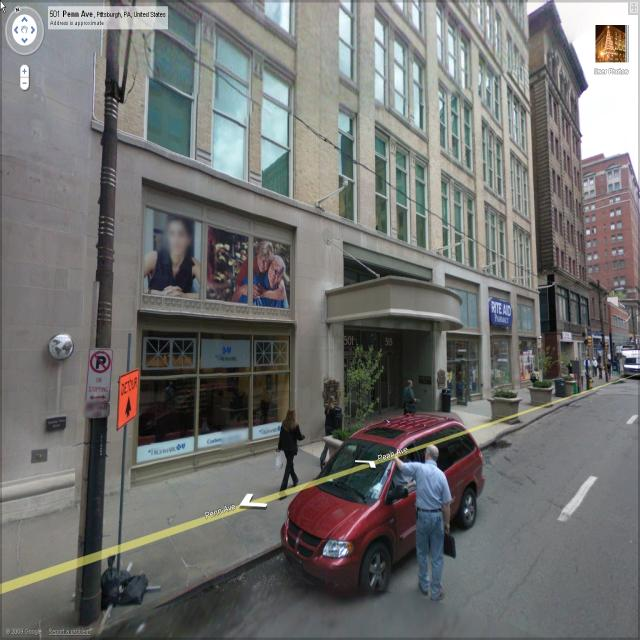window: (150, 3, 200, 159), (139, 336, 199, 455), (213, 33, 251, 182), (198, 342, 252, 446), (261, 60, 295, 192), (251, 334, 291, 426), (336, 112, 359, 232), (372, 8, 392, 104), (340, 1, 360, 77), (449, 179, 467, 260), (465, 186, 483, 265), (396, 140, 410, 236), (391, 32, 406, 117), (412, 57, 428, 132), (376, 134, 388, 232), (416, 154, 428, 250), (436, 81, 452, 150), (449, 90, 463, 160), (441, 178, 453, 258), (462, 104, 476, 170), (460, 31, 472, 96), (501, 214, 512, 284), (495, 140, 506, 204), (446, 16, 456, 82), (492, 214, 501, 280), (484, 204, 492, 278), (482, 123, 490, 191), (488, 135, 497, 195), (437, 6, 445, 70), (493, 69, 502, 124), (476, 57, 484, 102), (486, 70, 491, 114)
